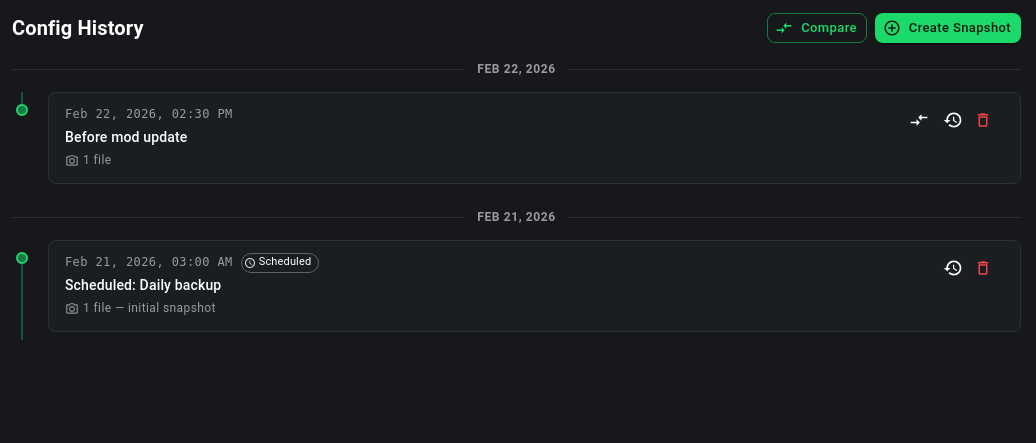
Scenario: ServerConfigHistoryTab › exits compare mode when Cancel clicked
This screenshot has width=1036, height=443.
What coordinates should you click on to do the following:
click the button "Compare"
I would click on:
 (817, 28)
Its box is [767, 13, 867, 43].
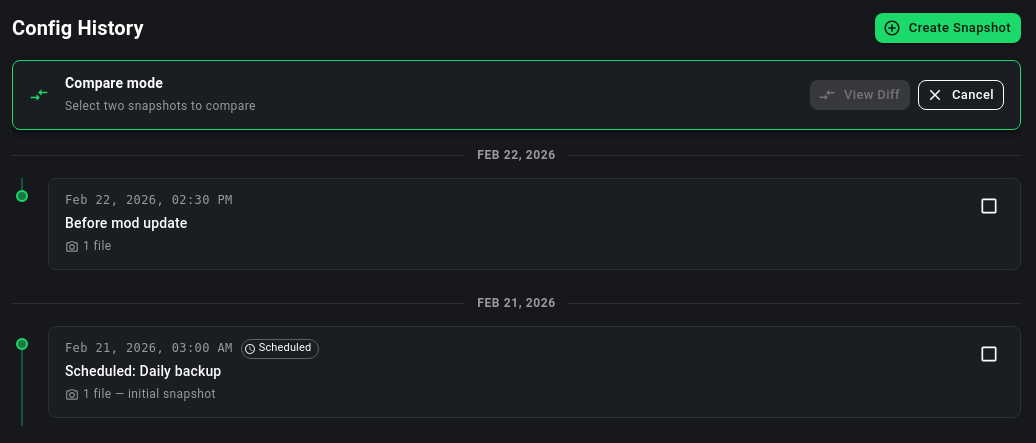
expect the text "Compare mode" is shown: met, box [65, 75, 163, 91]
What coordinates should you click on to do the following:
click the button "Cancel"
I would click on:
 (961, 95)
Its box is [918, 80, 1004, 110].
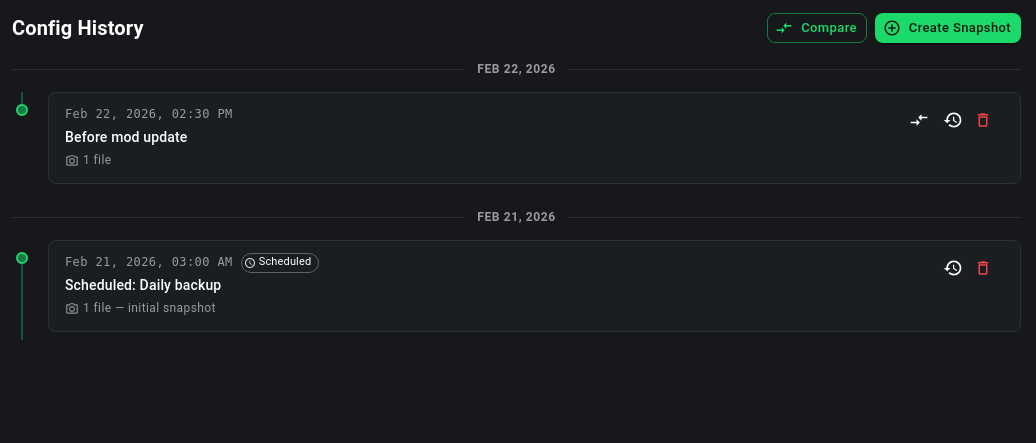
expect the text "Compare mode" is gone: met
